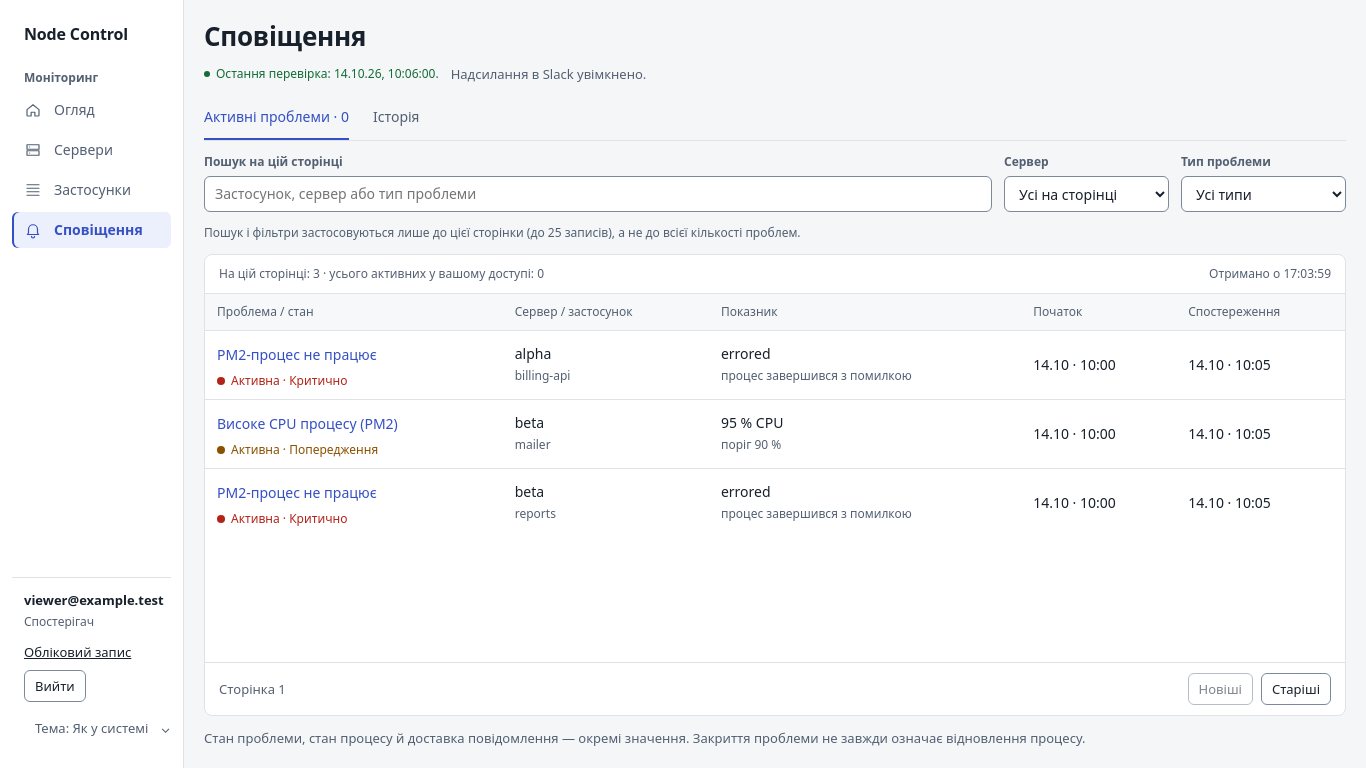
alerts: page-local search and filters, paging, polling › a filter on a server that is not on the next page stays visible and named; the page is not reset by it
Select "beta" in the dropdown labelled "Сервер" at (1086, 194), box x1=1004 y1=176 x2=1169 y2=212
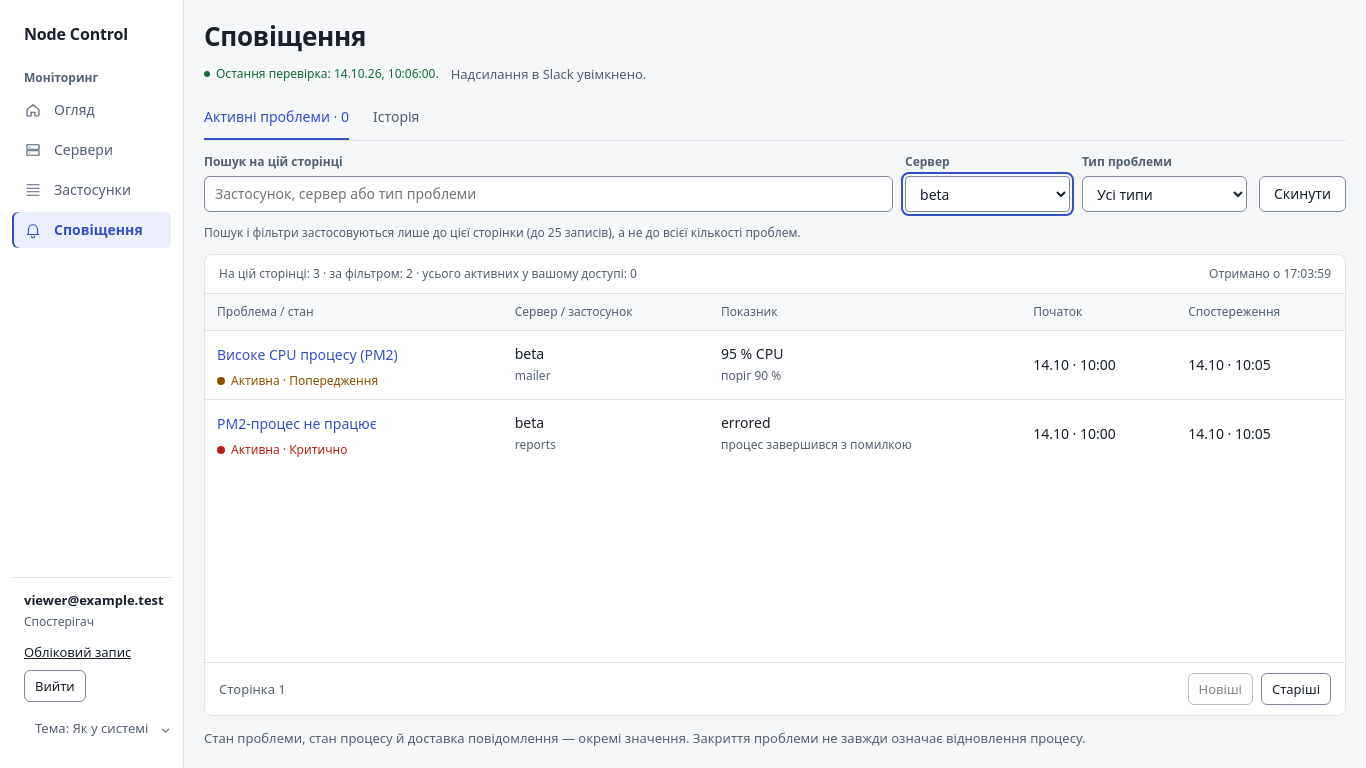
Click the button "Старіші" at (1296, 689), box x1=1261 y1=673 x2=1331 y2=705
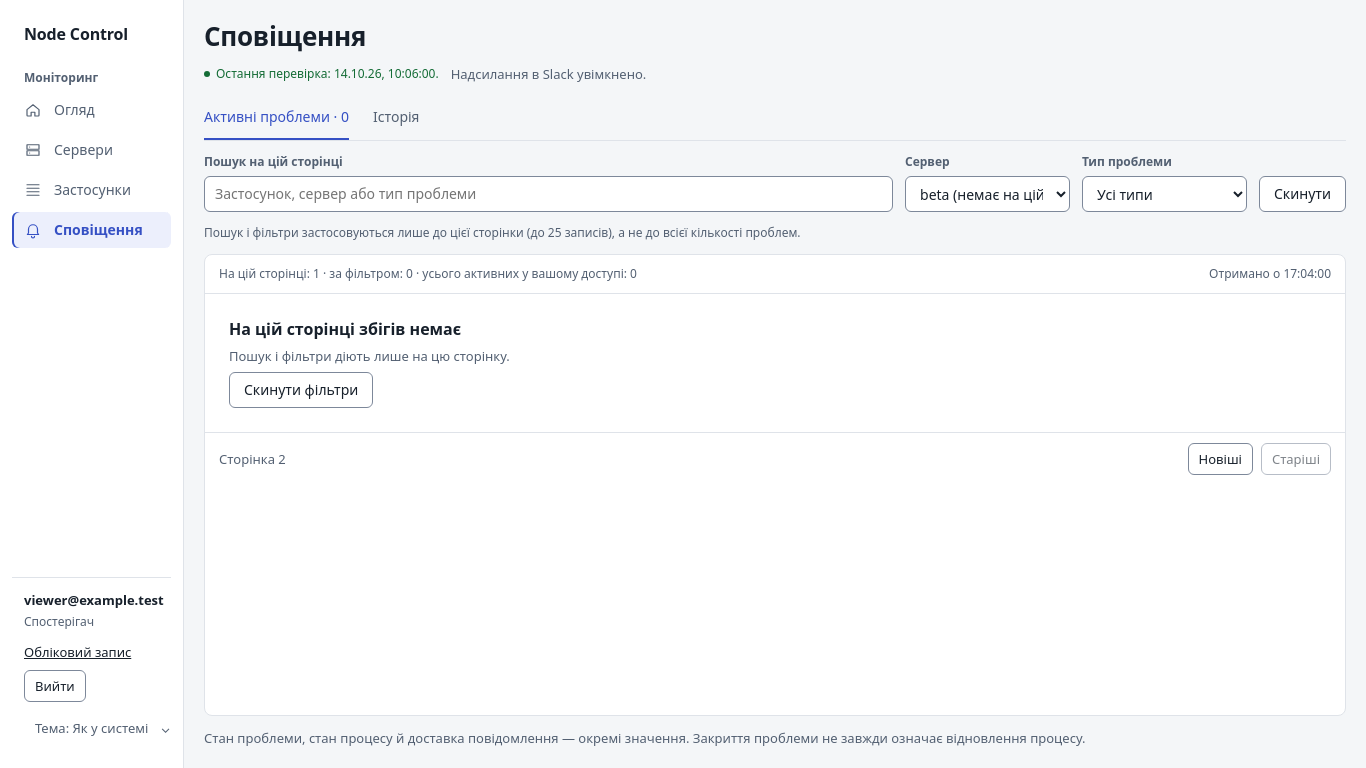
Now the text "Сторінка 2" is shown, box x1=219 y1=449 x2=286 y2=469
Now the heading "На цій сторінці збігів немає" is shown, box x1=229 y1=318 x2=461 y2=340
